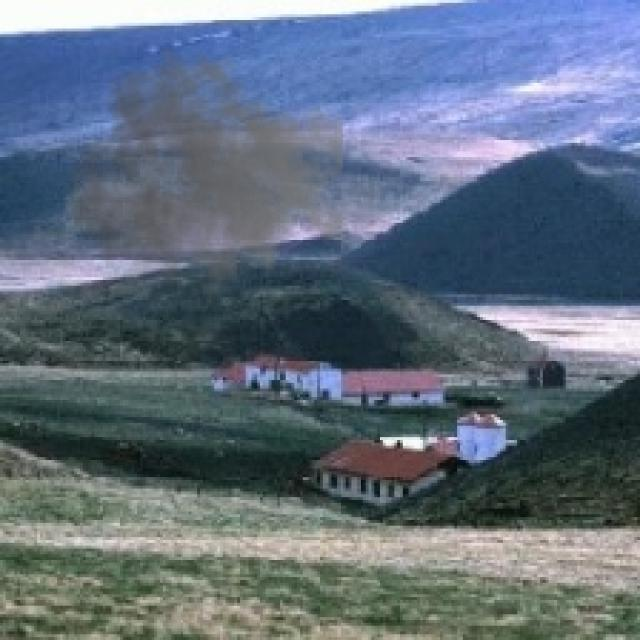smoke: (66, 43, 343, 317)
